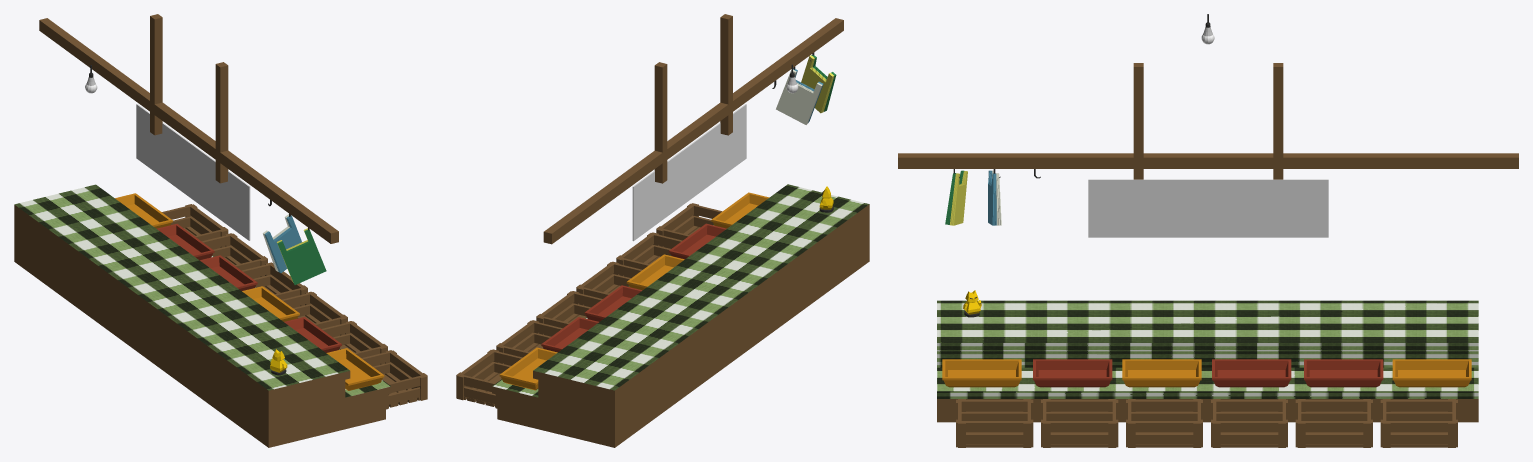
File: gulayan2.fbx
3 views of the same model, side by side, from view 1: azimuth 30°, elevation 25°; view 2: azimuth 150°, elevation 25°; view 3: azimuth 270°, elevation 25° (orthographic). The views are drawn at different scales.
Parts seen in each view (by area): view 1: gulayan2, wood, woodencrates, stallname, Plastic.004, Container.005, Plastic.005, Container.009, Container.008, Container.007, Container.006, Container.010; view 2: gulayan2, wood, woodencrates, stallname, Plastic.005, Container.010, Plastic.004, Container.007, Container.005, Container.006, Container.008, Container.009; view 3: gulayan2, woodencrates, stallname, wood, Container.009, Container.008, Container.007, Container.006, Container.005, Container.010, Plastic.004, Plastic.005.
Part boxes in pixels (x1,y1,x2,y2): gulayan2: (14,184,391,447); wood: (39,14,338,243); woodencrates: (162,204,427,409); stallname: (136,104,250,240); Plastic.004: (277,228,326,284); Container.005: (326,348,384,390); Plastic.005: (263,214,301,273); Container.009: (157,223,214,260); Container.008: (284,317,341,352); Container.007: (200,255,257,290); Container.006: (242,286,299,321); Container.010: (115,193,172,228); gulayan2: (492,184,869,447); wood: (543,14,843,244); woodencrates: (456,203,722,408); stallname: (632,104,746,241); Plastic.005: (776,68,823,124); Container.010: (499,347,557,390); Plastic.004: (801,55,836,113); Container.007: (584,285,642,321); Container.005: (711,192,769,228); Container.006: (626,254,684,290); Container.008: (668,223,726,259); Container.009: (541,317,598,352); gulayan2: (937,300,1478,422); woodencrates: (956,399,1457,447); stallname: (1088,179,1328,237); wood: (898,63,1518,179); Container.009: (1304,359,1383,387); Container.008: (1033,359,1112,387); Container.007: (1212,359,1291,387); Container.006: (1122,359,1201,387); Container.005: (942,359,1021,387); Container.010: (1392,359,1471,387); Plastic.004: (945,170,967,225); Plastic.005: (988,170,1001,225).
Size of the model in its own units: 4.62 by 5.95 by 10.41.
Materials: 13 (1 with a texture image).
